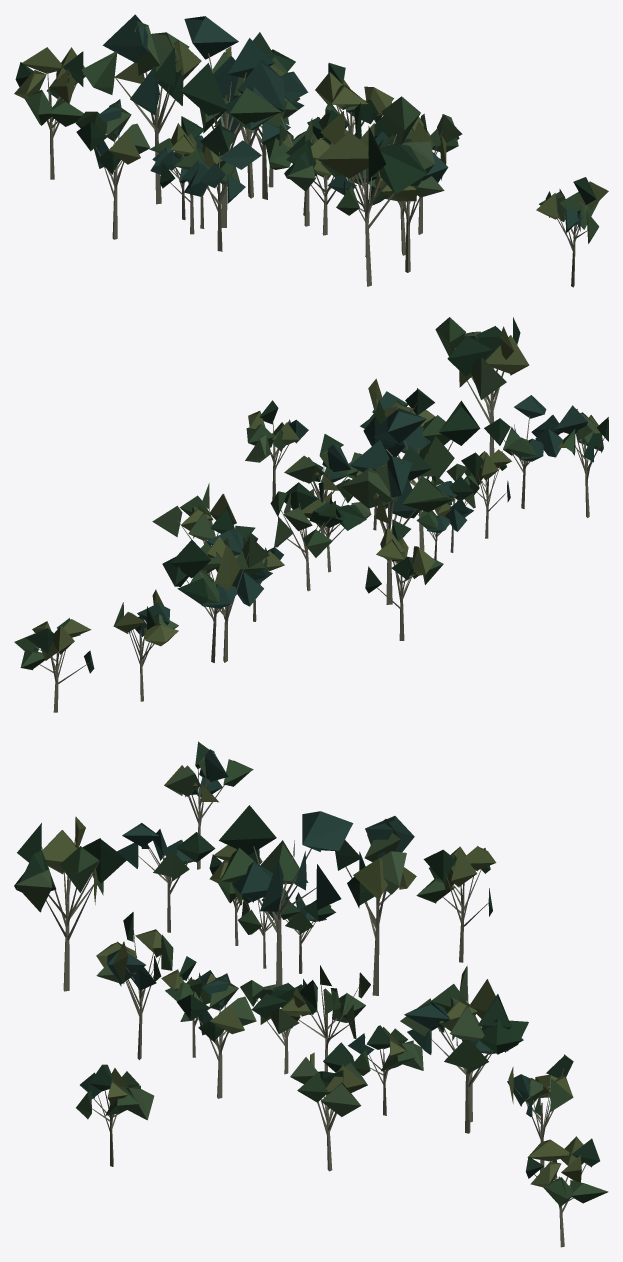
Rendered from forest_23_24.dae.
3 renders of one model, top to bottom at view 1: azimuth 30°, elevation 25°; view 2: azimuth 150°, elevation 25°; view 3: azimuth 270°, elevation 25°, orthographic. The views are drawn at different scales.
Parts seen in each view (by area): view 1: Node; view 2: Node; view 3: Node.
Boxes of the visible parts, x1=… form: Node: x1=14, y1=14, x2=608, y2=287; Node: x1=14, y1=317, x2=608, y2=712; Node: x1=14, y1=741, x2=608, y2=1247.
Size of the model in its own units: 10.71 by 11.62 by 6.67.
